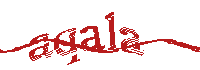a: (79, 23, 106, 54), (25, 31, 51, 62), (119, 25, 144, 55)
l: (104, 11, 119, 55)
q: (53, 27, 82, 67)
